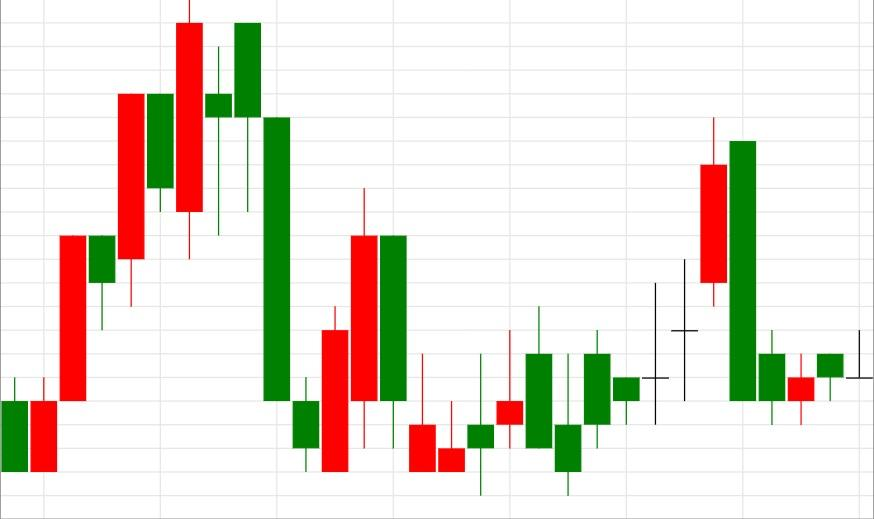inverse_hammer_rise: (351, 188, 464, 473)
three_black_crows_fall: (0, 0, 320, 472)
